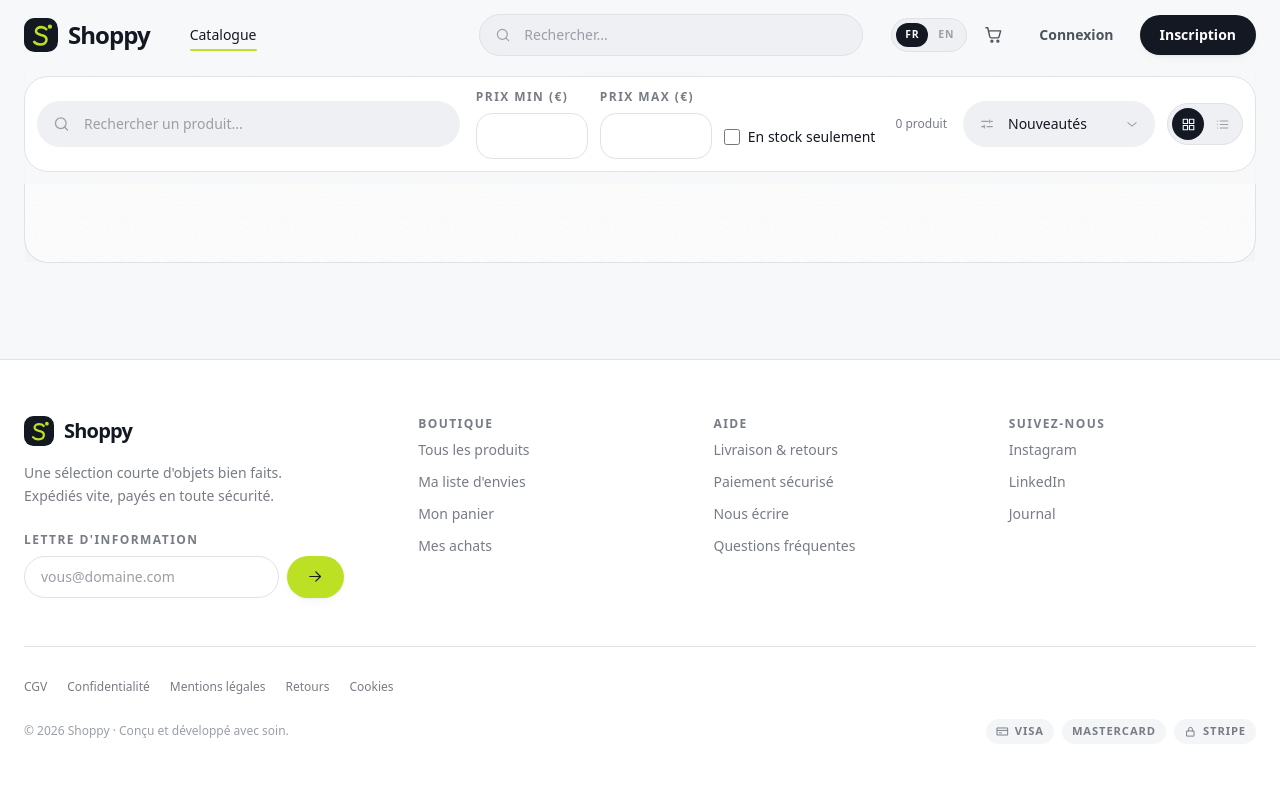
Test case: AppLayout cookies › reopens the banner from the footer
(page scrolled)
Click the button "Cookies" at (371, 687), box [349,679,394,695]
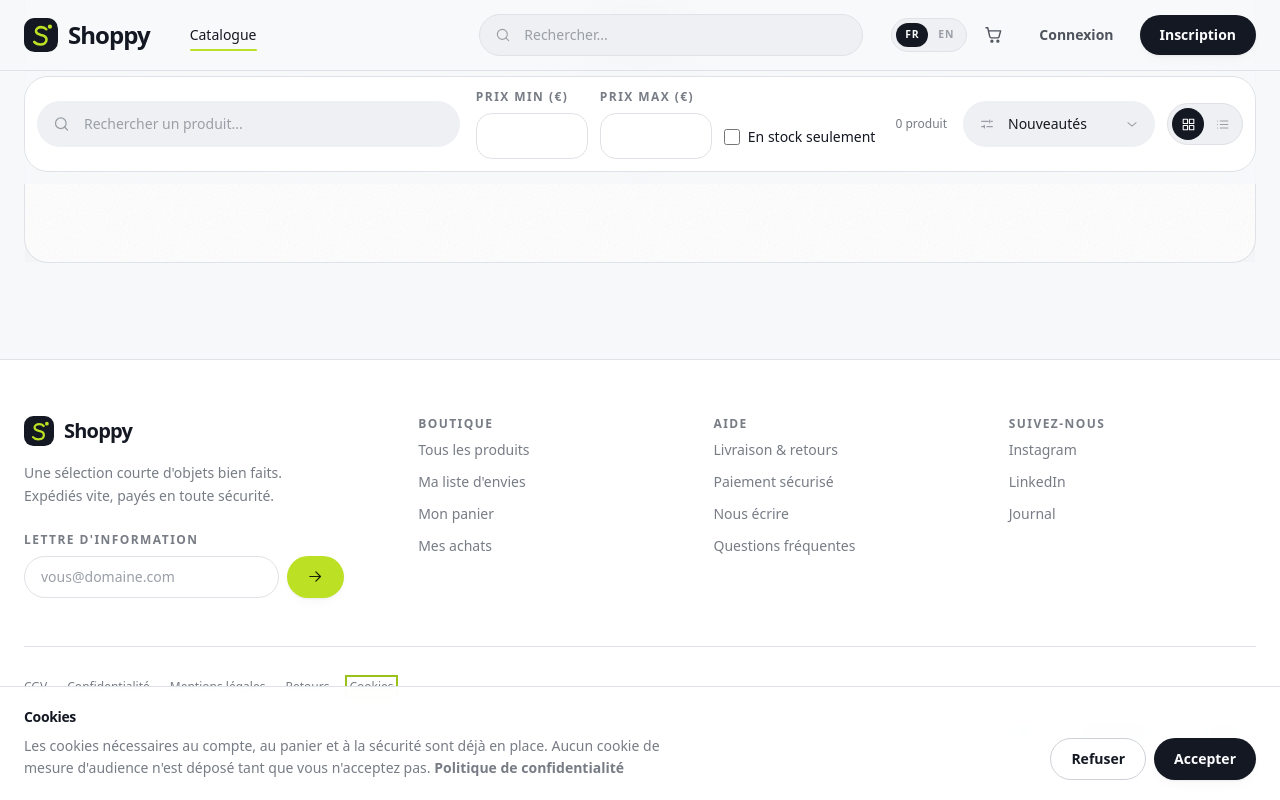
Check: the dialog "Cookies" is shown, box [0,686,1279,799]
